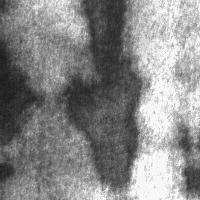patches: (62, 1, 144, 189), (0, 16, 101, 128), (10, 122, 94, 200), (74, 0, 158, 76), (1, 42, 41, 146)
